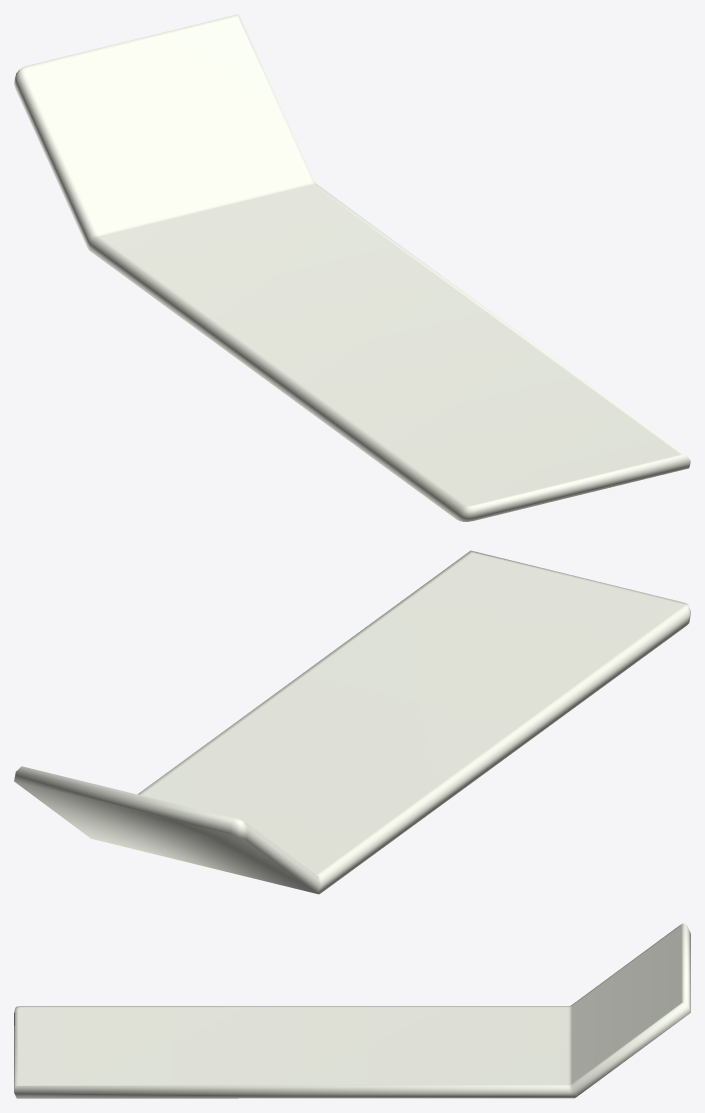
File: SunLounger_MattressGradient_A.fbx
The picture shows the model from 3 angles, top to bottom: view 1: azimuth 30°, elevation 25°; view 2: azimuth 150°, elevation 25°; view 3: azimuth 270°, elevation 25°; orthographic projection. The views are drawn at different scales.
Visible parts, largest first — view 1: SunLounger_MattressGradient_A; view 2: SunLounger_MattressGradient_A; view 3: SunLounger_MattressGradient_A.
Part boxes in pixels (x1,y1,x2,y2): SunLounger_MattressGradient_A: [14, 14, 690, 521]; SunLounger_MattressGradient_A: [14, 550, 690, 894]; SunLounger_MattressGradient_A: [14, 923, 690, 1098].
Bounding box in the file's own units: 45.43 × 24.42 × 157.
